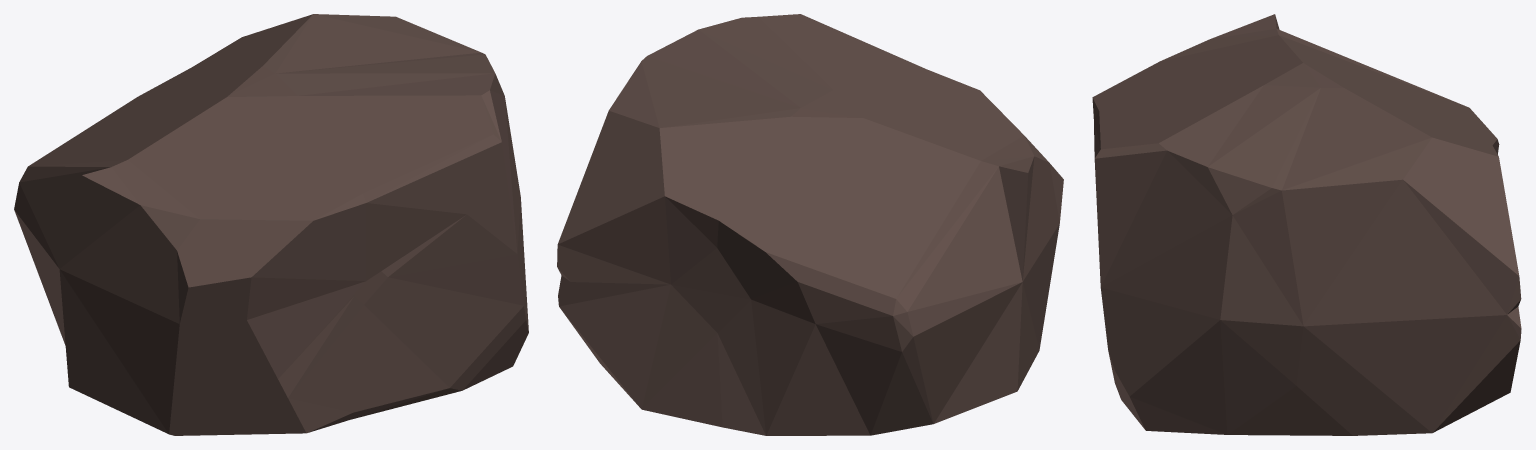
Rendered from Rock 4.fbx.
3 renders of one model, left to right at view 1: azimuth 30°, elevation 25°; view 2: azimuth 150°, elevation 25°; view 3: azimuth 270°, elevation 25°, orthographic. The views are drawn at different scales.
Visible parts, largest first — view 1: Cliff shard 4; view 2: Cliff shard 4; view 3: Cliff shard 4.
Boxes of the visible parts, <box> form: Cliff shard 4: <box>14,14,528,435</box>; Cliff shard 4: <box>557,14,1063,435</box>; Cliff shard 4: <box>1092,14,1521,435</box>.
Size of the model in its own units: 0.7278 by 0.4513 by 0.638.
